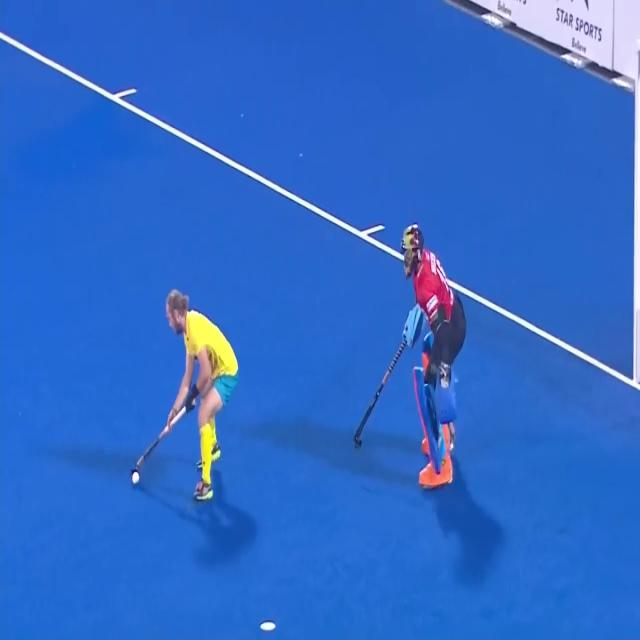ball: (121, 452, 154, 499)
